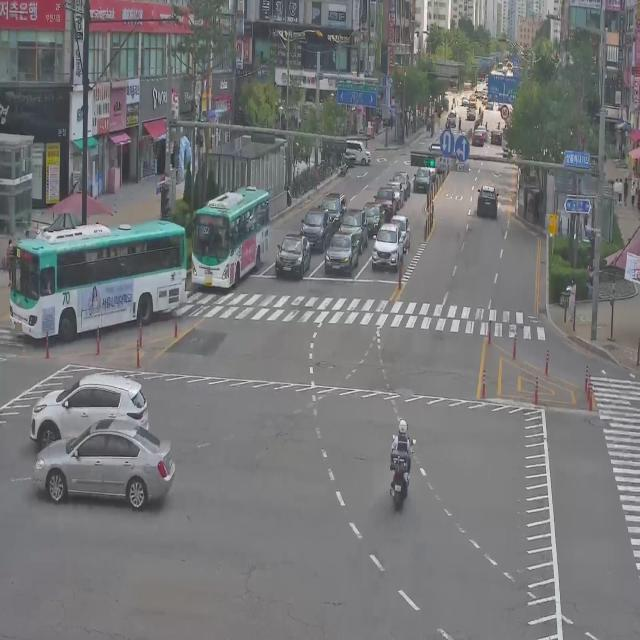Bus: (8, 219, 193, 344), (184, 174, 270, 298)
Car: (32, 416, 176, 511), (29, 372, 149, 451), (274, 233, 310, 280), (296, 209, 334, 252), (371, 223, 404, 271), (325, 231, 359, 276), (313, 188, 348, 228), (343, 203, 369, 246), (374, 188, 398, 224), (476, 184, 498, 219), (346, 139, 372, 167), (360, 200, 382, 231), (413, 162, 432, 195), (386, 176, 404, 210), (392, 162, 411, 194), (490, 127, 503, 147), (473, 127, 484, 148), (478, 125, 487, 139)
Motorcycle: (388, 419, 416, 511)
